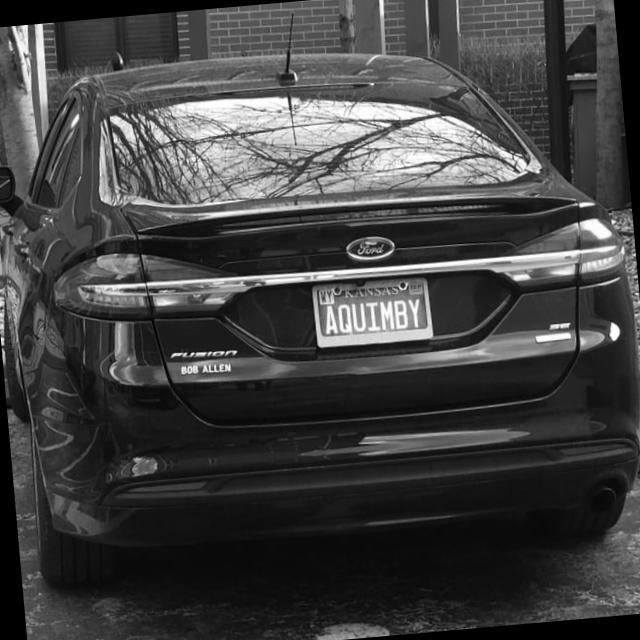LicensePlate: (311, 274, 434, 349)
